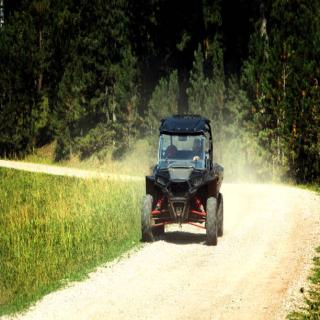Normal_vehicle: (144, 113, 228, 248)
